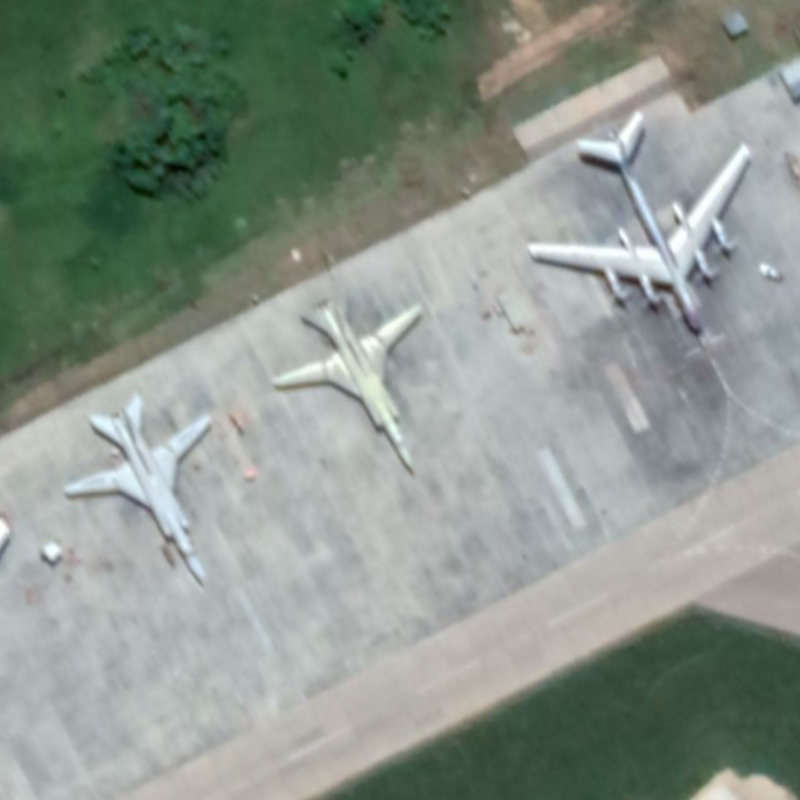A12: (59, 391, 217, 588), (271, 290, 426, 472)
A17: (522, 108, 755, 336)
